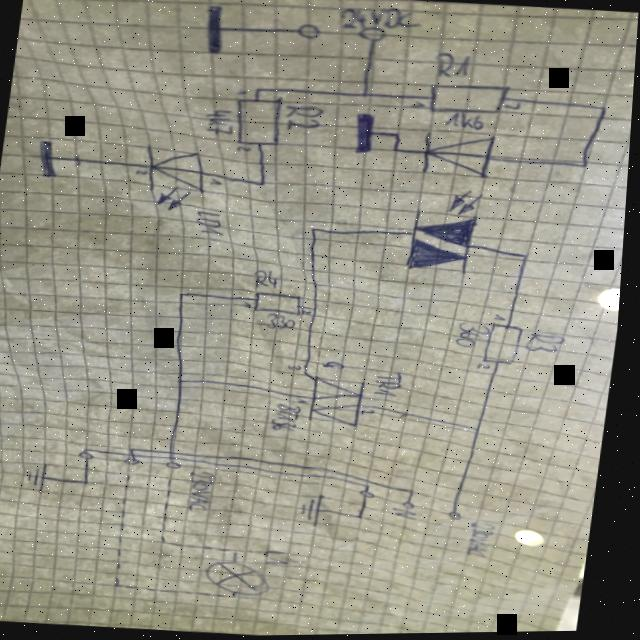crossover: (135, 453, 143, 457), (174, 451, 181, 455), (173, 456, 180, 460)
diode: (138, 140, 214, 213)
ground: (200, 2, 227, 56), (33, 137, 66, 180), (351, 112, 380, 158), (302, 491, 335, 530), (29, 459, 57, 496)
junction: (579, 161, 594, 172), (520, 253, 537, 262), (360, 91, 374, 100), (599, 105, 612, 114), (477, 426, 489, 435), (258, 180, 271, 188), (311, 226, 322, 235), (234, 547, 248, 554), (411, 488, 423, 496), (180, 377, 191, 385), (232, 594, 246, 600), (165, 539, 179, 545), (361, 514, 372, 521), (87, 479, 98, 486), (180, 291, 191, 298), (393, 147, 403, 154), (254, 86, 264, 93), (119, 582, 130, 588), (394, 132, 404, 138), (315, 306, 323, 313), (370, 484, 378, 490), (133, 447, 140, 451), (88, 448, 94, 452)
resistor: (428, 81, 514, 119), (233, 94, 287, 148), (486, 322, 529, 367), (256, 291, 309, 316)
terminal: (356, 25, 388, 45), (292, 22, 323, 41), (453, 511, 471, 522), (408, 501, 423, 510)
text: (336, 3, 428, 37), (430, 49, 476, 83), (189, 469, 223, 513), (470, 519, 505, 560), (283, 103, 329, 134), (457, 321, 496, 349), (528, 333, 572, 357), (375, 370, 410, 399), (195, 209, 231, 237), (275, 403, 308, 433), (204, 108, 238, 137), (444, 112, 490, 132), (254, 269, 284, 291), (267, 313, 301, 331), (269, 548, 299, 568), (397, 506, 428, 523), (503, 101, 525, 116), (326, 360, 351, 371), (408, 100, 430, 111), (235, 145, 255, 154), (209, 177, 227, 187), (365, 408, 383, 417), (291, 363, 309, 372), (495, 314, 512, 323), (480, 362, 497, 371), (242, 300, 258, 309), (135, 168, 151, 177), (235, 89, 250, 97), (305, 309, 317, 317), (303, 398, 314, 405)
